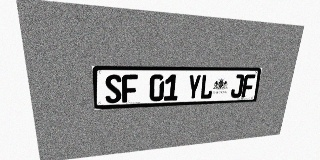0: (149, 74, 164, 101)
1: (164, 74, 179, 101)
F: (122, 74, 138, 103), (241, 74, 256, 97)
J: (230, 74, 245, 98)
L: (199, 74, 214, 99)
S: (105, 74, 122, 103)
Y: (187, 74, 201, 100)
